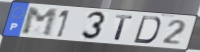1: (56, 10, 71, 39)
2: (161, 19, 188, 46)
3: (80, 11, 109, 41)
D: (132, 15, 163, 45)
M: (20, 7, 59, 38)
T: (113, 14, 134, 42)
